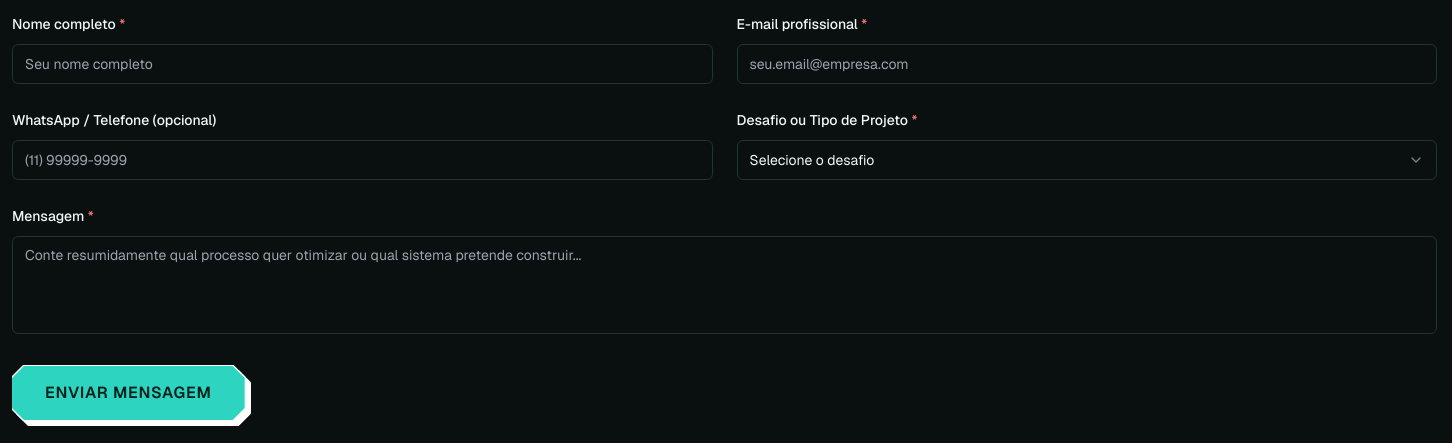
Test: ContactForm Component › formata dinamicamente o número digitado com máscara brasileira
The image size is (1452, 443).
In the field labelled "WhatsApp / Telefone (opcional)": (362, 160) 12,140 -> 712,180, type "11999998888"
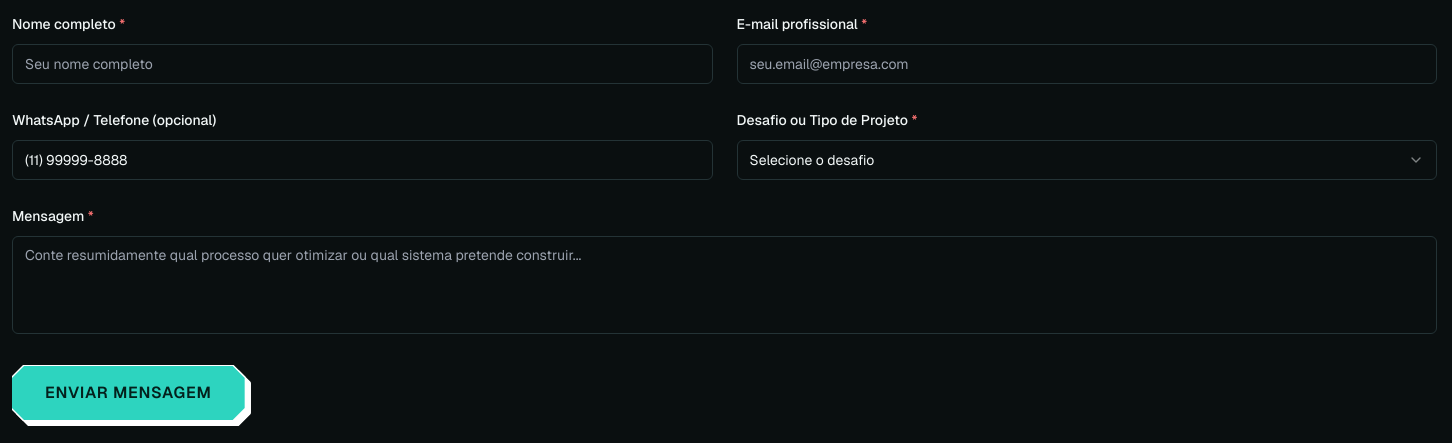
Expected: the field labelled "WhatsApp / Telefone (opcional)" holds "(11) 99999-8888", 12,140 -> 712,180
